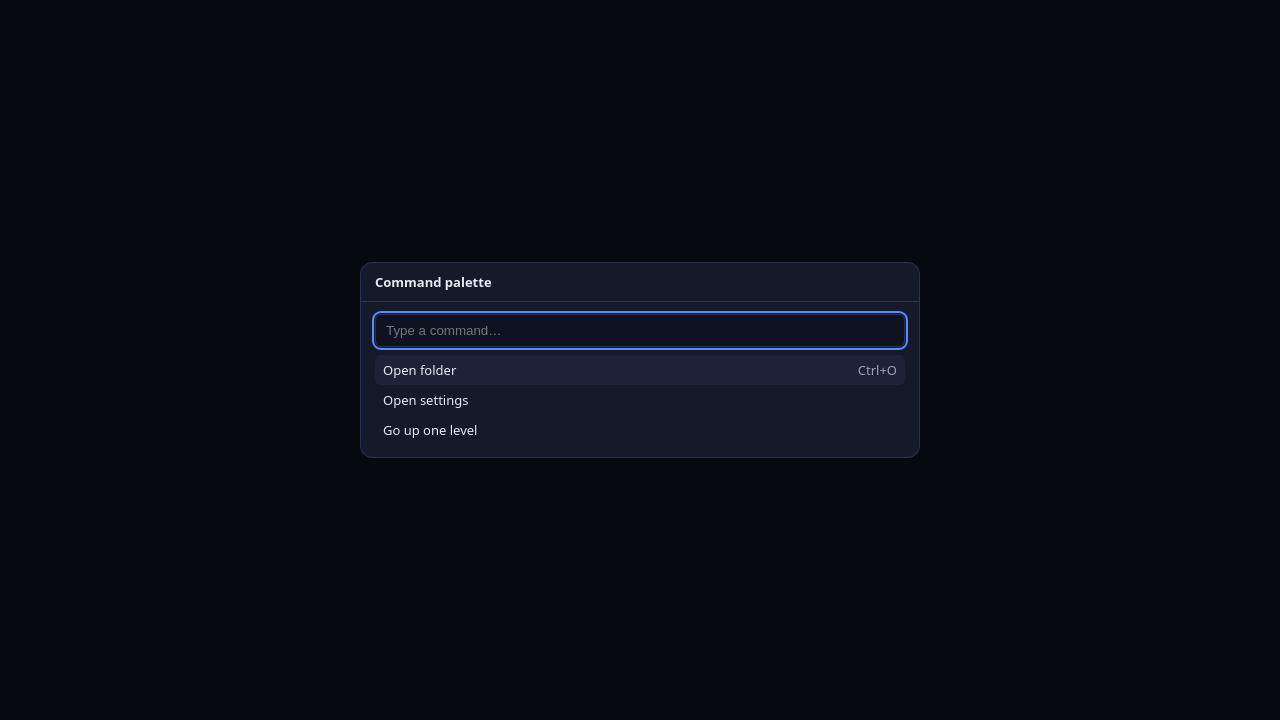
it: CommandPalette › filters commands by the typed text
Check: the number of options is 3, box top-left (375, 355), bottom-right (905, 385); top-left (383, 391), bottom-right (468, 409); top-left (383, 421), bottom-right (478, 439)
Type "OPEN" into the field named "Search commands" at point(640, 330), box top-left (375, 314), bottom-right (905, 347)
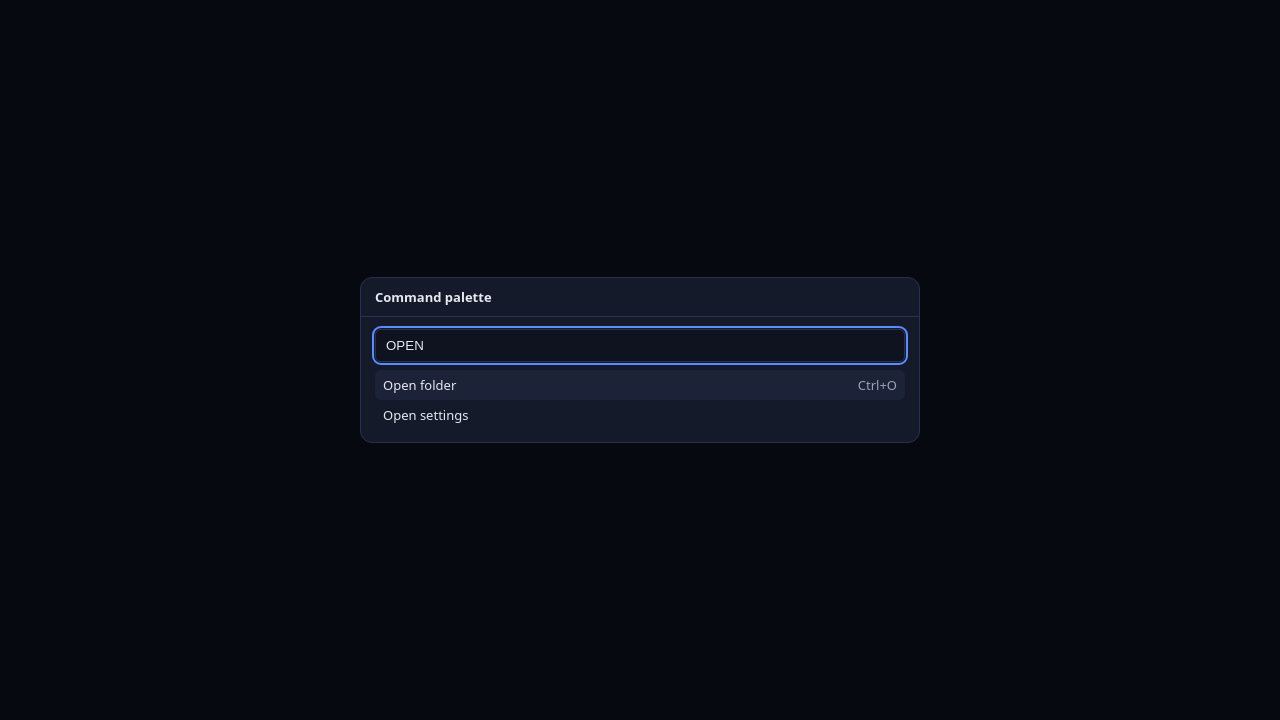
Check: the text "Ctrl+O" is shown, box top-left (858, 376), bottom-right (897, 394)
Check: the number of options is 2, box top-left (375, 370), bottom-right (905, 400); top-left (383, 406), bottom-right (468, 424)
